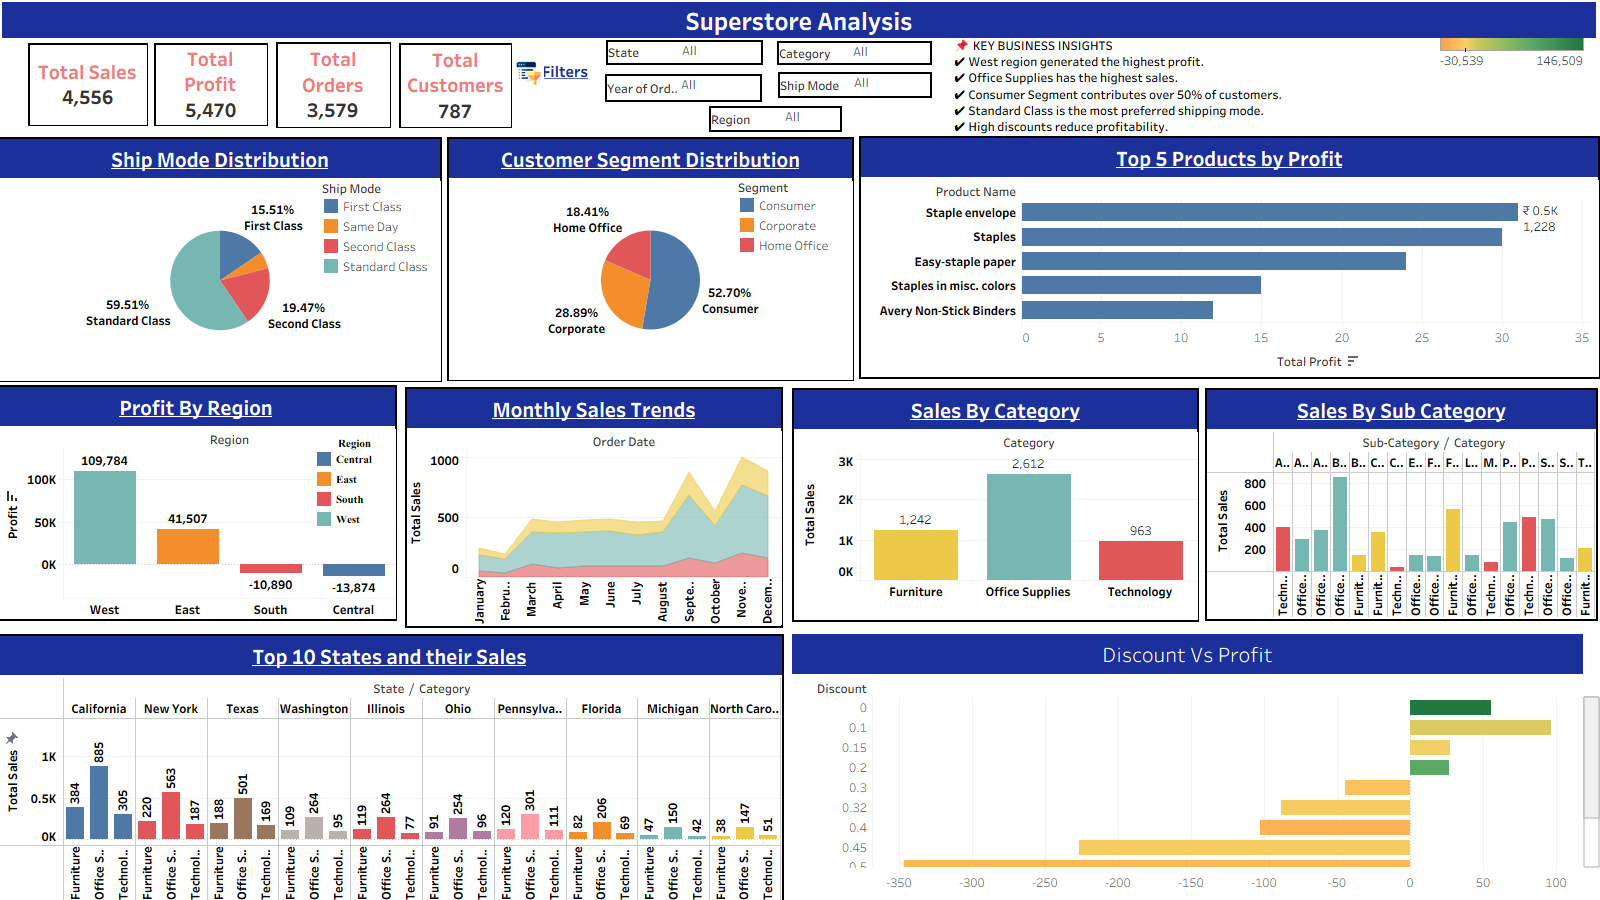

Layout of this report page (visuals, bound fields, positions):
{"tool":"tableau","page":{"name":"Dashboard 1","canvas":[1600,900],"ordinal":0},"visuals":[{"type":"title","box":[2,2,1594,36]},{"type":"legend","title":"Sheet 15","param":"[federated.0i43z0p1i3qexm1css87c0s22vga].[sum:Profit:qk]","box":[1432,8,160,65]},{"type":"text","box":[951,21,370,133]},{"type":"filter","title":"Top 10 States and their Sales","param":"[federated.0i43z0p1i3qexm1css87c0s22vga].[none:State:nk]","box":[606,40,157,25]},{"type":"filter","title":"Sheet 7","param":"[federated.0i43z0p1i3qexm1css87c0s22vga].[none:Category:nk]","box":[777,41,155,24]},{"type":"worksheet","title":"Sheet 4","mark":"Automatic","box":[276,42,115,86]},{"type":"worksheet","title":"Sheet 1","mark":"Automatic","box":[28,43,120,83]},{"type":"worksheet","title":"Sheet 2","mark":"Automatic","box":[154,43,114,83]},{"type":"worksheet","title":"Sheet 3","mark":"Automatic","box":[399,43,113,85]},{"type":"image","param":"Image/filter.png","box":[512,57,32,33]},{"type":"text","box":[517,57,96,28]},{"type":"filter","title":"Sheet 12","param":"[federated.0i43z0p1i3qexm1css87c0s22vga].[none:Ship Mode:nk]","box":[778,72,154,26]},{"type":"filter","title":"Sheet 13","param":"[federated.0i43z0p1i3qexm1css87c0s22vga].[yr:Order Date:ok]","box":[605,74,157,28]},{"type":"filter","title":"Sheet 5","param":"[federated.0i43z0p1i3qexm1css87c0s22vga].[none:Region:nk]","box":[709,106,133,26]},{"type":"worksheet","title":"Sheet 14","mark":"Automatic","rows":["Product Name"],"cols":["Calculation_0887325419380737"],"box":[859,136,741,243]},{"type":"worksheet","title":"Sheet 13","mark":"Pie","box":[447,137,407,244]},{"type":"legend","title":"Sheet 13","param":"[federated.0i43z0p1i3qexm1css87c0s22vga].[none:Segment:nk]","box":[737,177,125,89]},{"type":"legend","title":"Sheet 12","param":"[federated.0i43z0p1i3qexm1css87c0s22vga].[none:Ship Mode:nk]","box":[321,178,129,102]},{"type":"worksheet","title":"Sheet 6","mark":"Area","rows":["Calculation_0887325418336256"],"cols":["Order Date"],"box":[405,387,378,241]},{"type":"worksheet","title":"Sheet 7","mark":"Automatic","rows":["Calculation_0887325418336256"],"cols":["Category"],"box":[792,388,407,234]},{"type":"worksheet","title":"Sheet 9","mark":"Automatic","rows":["Calculation_0887325418336256"],"cols":["Sub-Category","Category"],"box":[1205,388,393,233]},{"type":"legend","title":"Sheet 5","param":"[federated.0i43z0p1i3qexm1css87c0s22vga].[none:Region:nk]","box":[314,435,79,94]}]}

Visuals, with their boxes in screenshot pixels (x1, y1, x2, y2), scaled from the page's 1600x900 canvas onto the 1600x900 screenshot:
title: (2, 2, 1596, 38)
"Sheet 15" legend: (1432, 8, 1592, 73)
text: (951, 21, 1321, 154)
"Top 10 States and their Sales" filter: (606, 40, 763, 65)
"Sheet 7" filter: (777, 41, 932, 65)
"Sheet 4" worksheet: (276, 42, 391, 128)
"Sheet 1" worksheet: (28, 43, 148, 126)
"Sheet 2" worksheet: (154, 43, 268, 126)
"Sheet 3" worksheet: (399, 43, 512, 128)
image: (512, 57, 544, 90)
text: (517, 57, 613, 85)
"Sheet 12" filter: (778, 72, 932, 98)
"Sheet 13" filter: (605, 74, 762, 102)
"Sheet 5" filter: (709, 106, 842, 132)
"Sheet 14" worksheet: (859, 136, 1599, 379)
"Sheet 13" worksheet (Pie marks): (447, 137, 854, 381)
"Sheet 13" legend: (737, 177, 862, 266)
"Sheet 12" legend: (321, 178, 450, 280)
"Sheet 6" worksheet (Area marks): (405, 387, 783, 628)
"Sheet 7" worksheet: (792, 388, 1199, 622)
"Sheet 9" worksheet: (1205, 388, 1598, 621)
"Sheet 5" legend: (314, 435, 393, 529)
